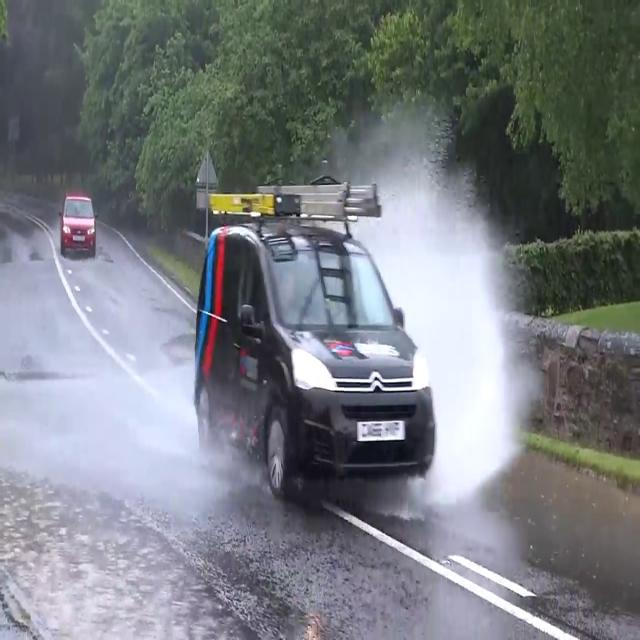license-plate-annotation: (356, 418, 403, 442)
